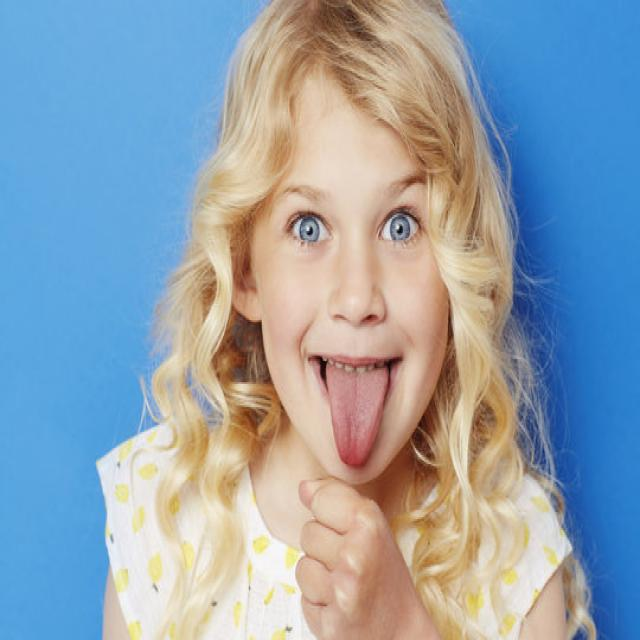tongue: (319, 363, 393, 472)
